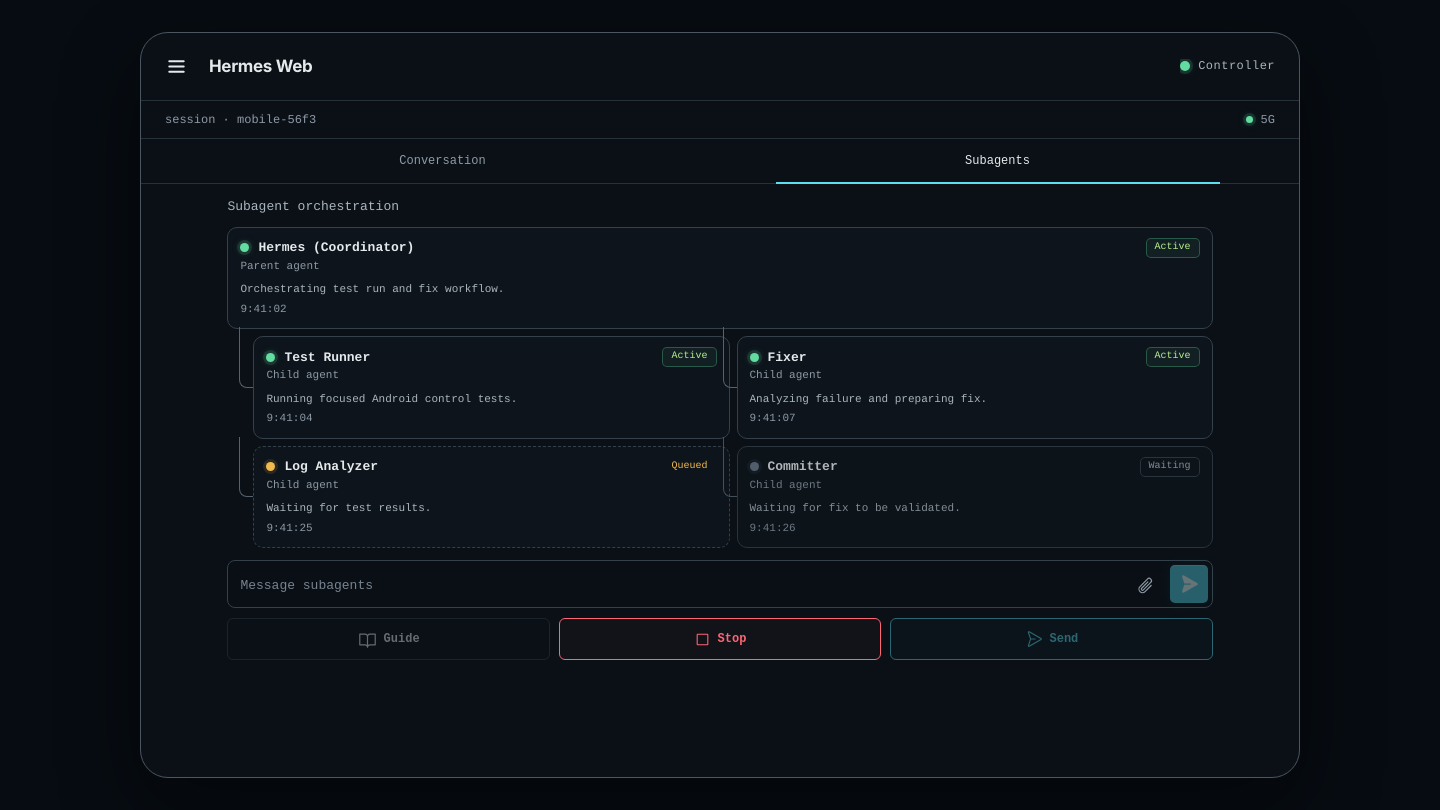
it: Hermes Web mobile-parity slice › keeps Subagents Guide single-flight and disabled while pending
Type "Run once" into the field labelled "Message subagents" at point(676, 584), box [228, 561, 1124, 607]
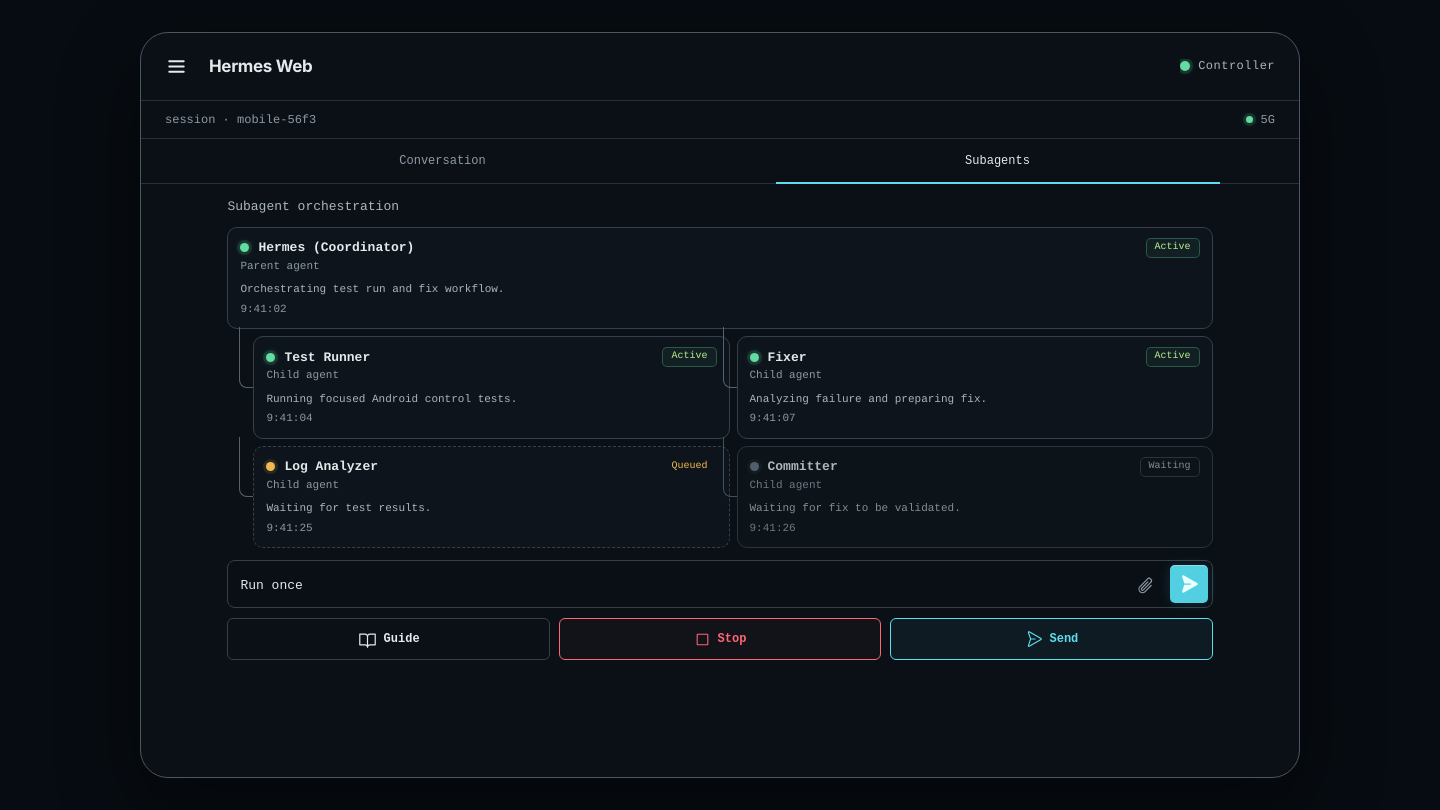
Double-click the button "Guide" at point(389, 639), box [227, 618, 550, 660]
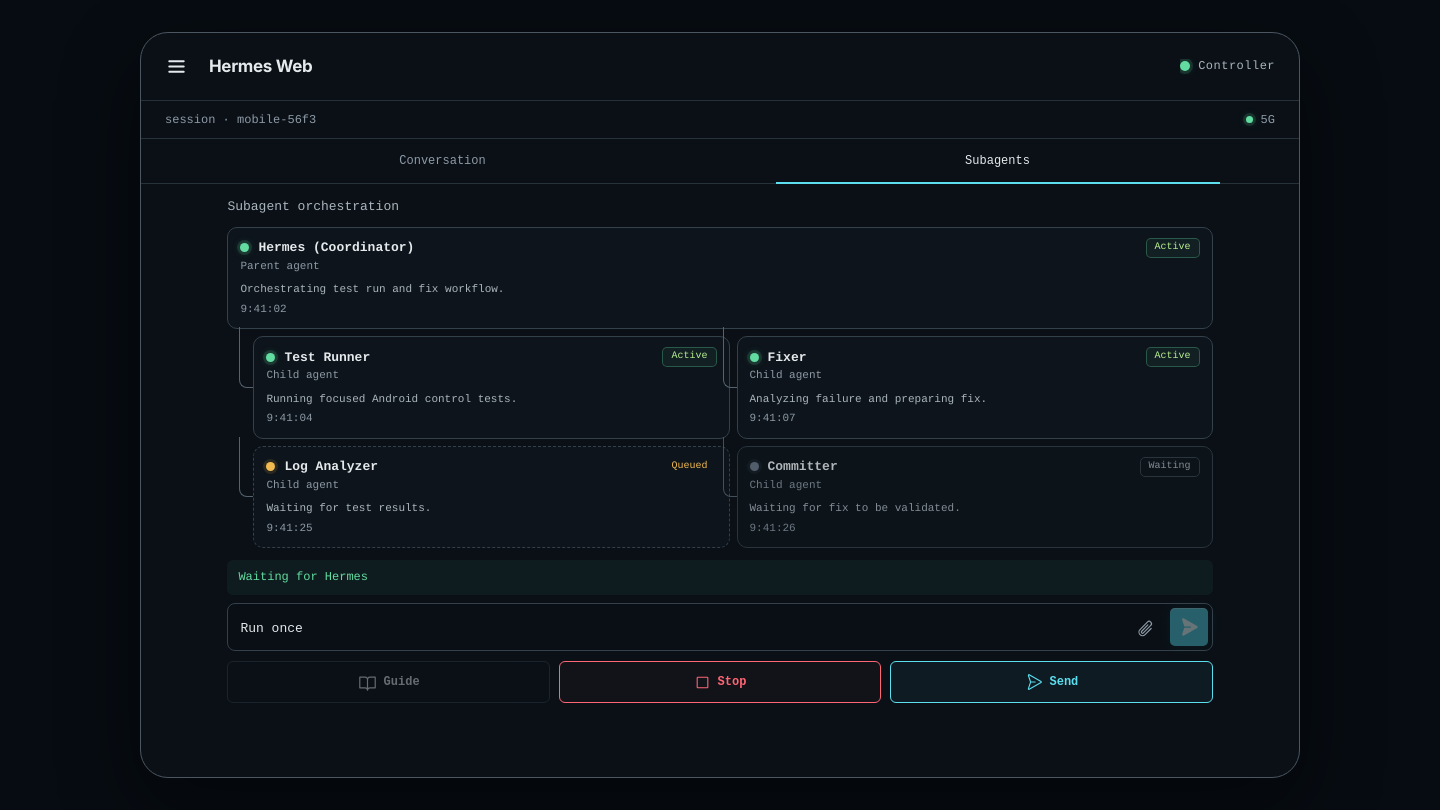
Expected: the button "Guide" is disabled, [227, 661, 550, 703]
Expected: the button named "Send guidance" is disabled, [1170, 608, 1208, 646]
